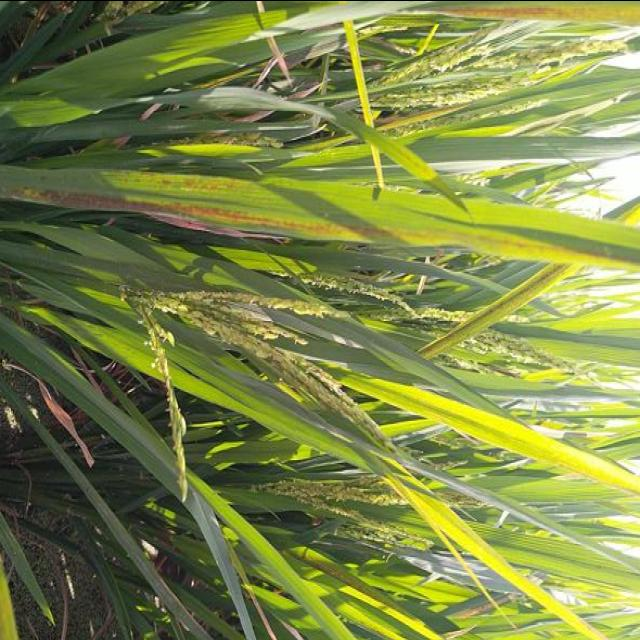Leaf Streak: (11, 187, 640, 268), (419, 262, 574, 356), (443, 0, 640, 26), (303, 547, 384, 598), (121, 169, 239, 201), (0, 537, 19, 640)
